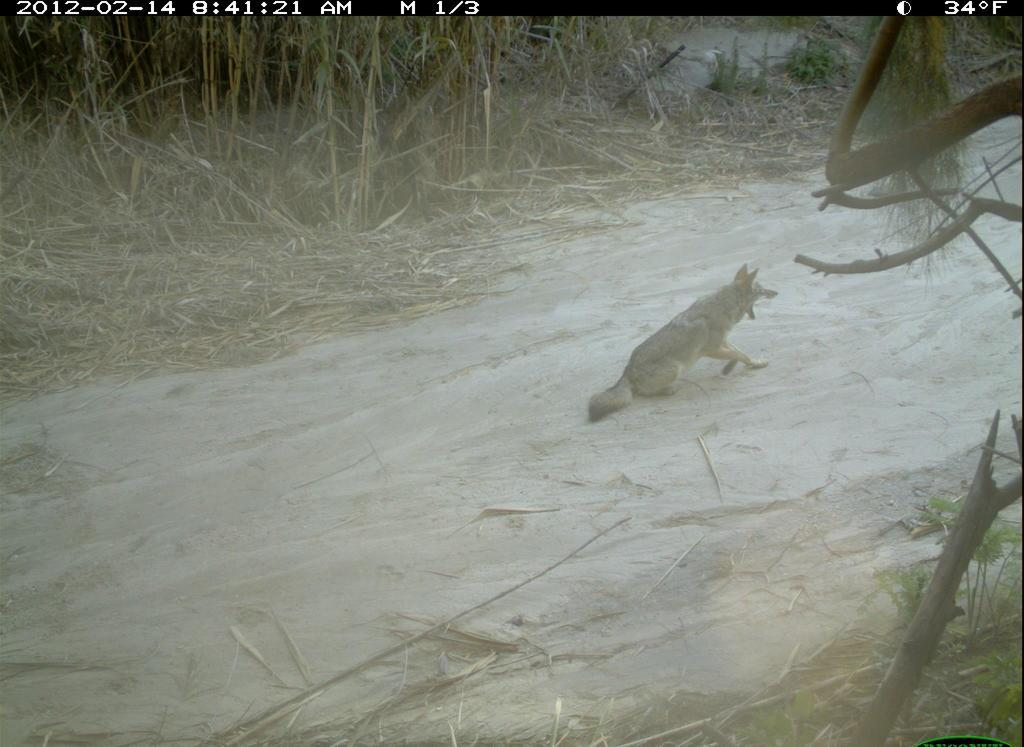coyote: (582, 260, 780, 428)
